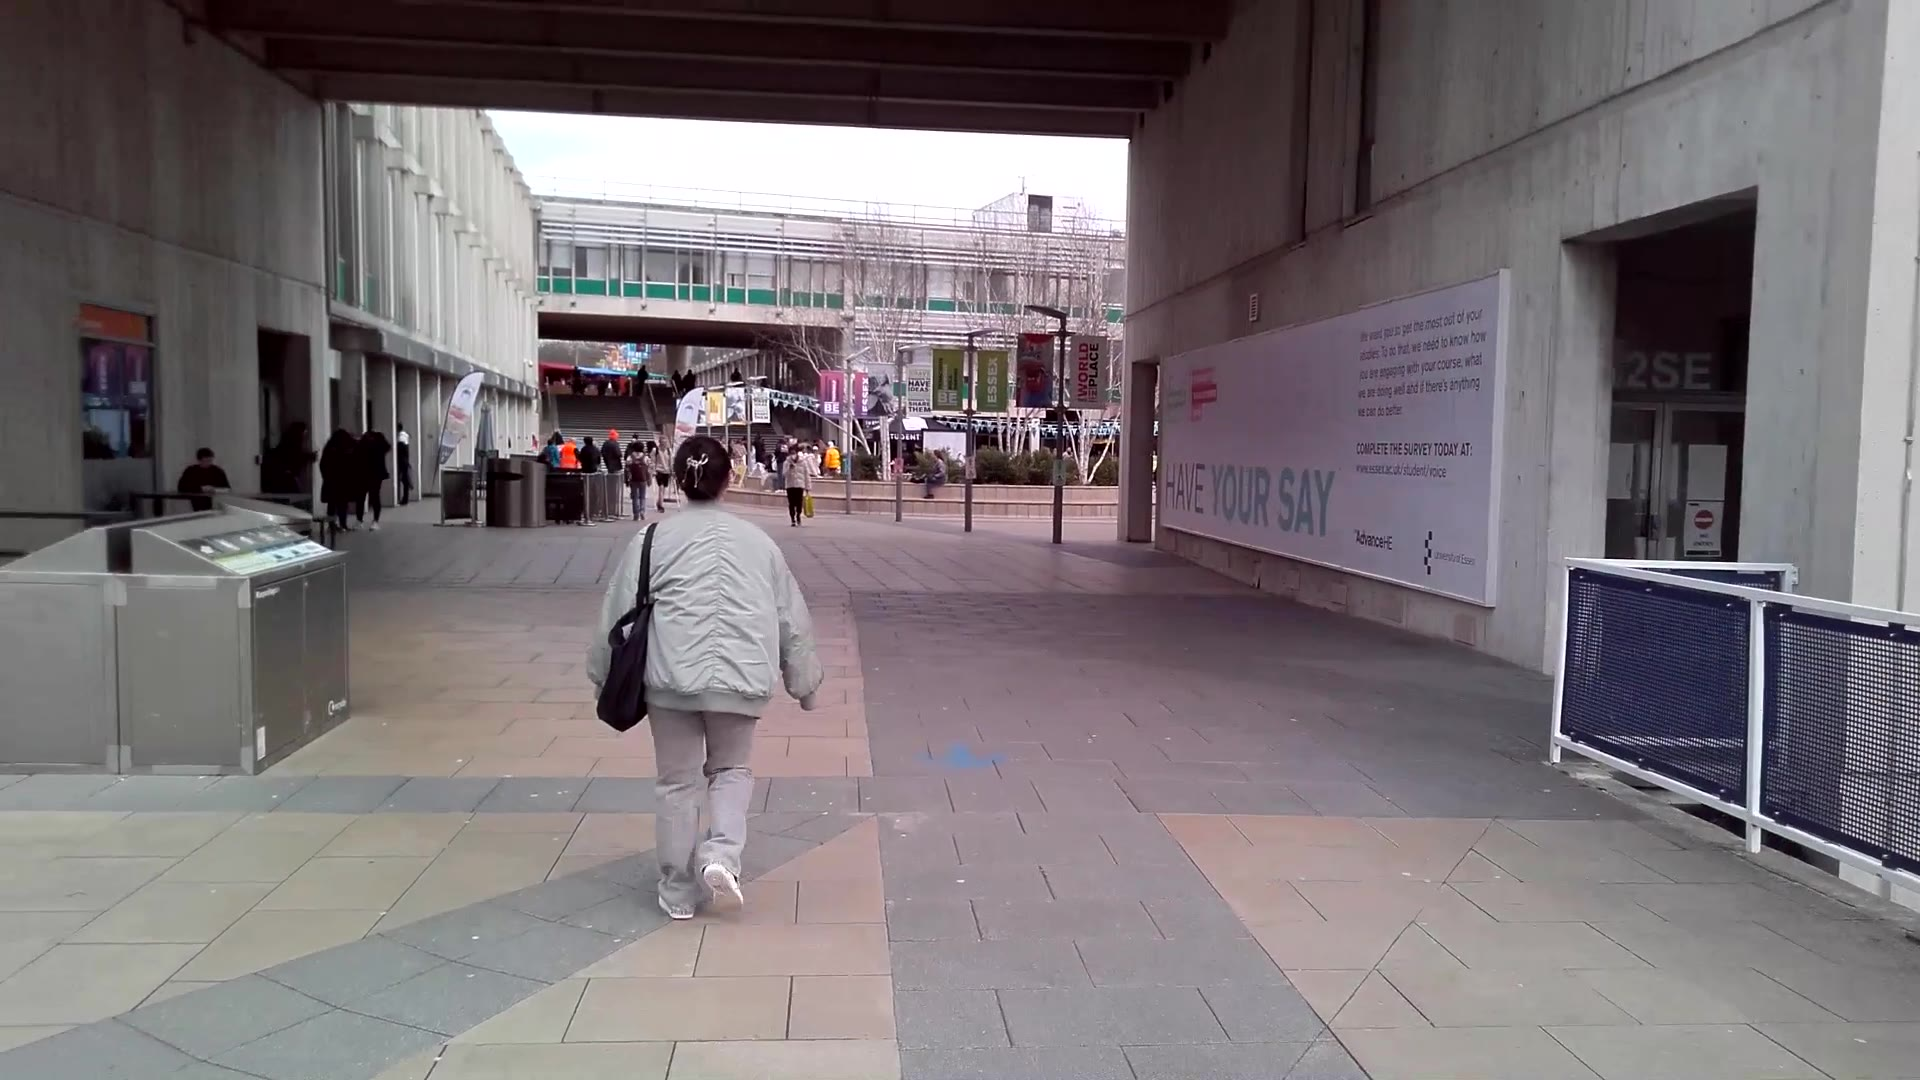Backpack: (605, 598, 664, 734)
Bin: (133, 511, 357, 762), (1, 505, 133, 786), (482, 451, 554, 533)
Person: (624, 434, 798, 914), (786, 439, 813, 530)
